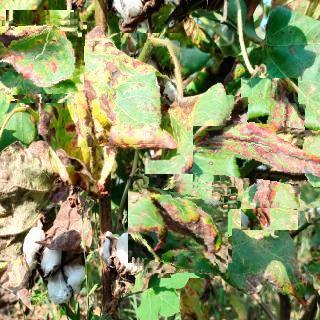blight: (65, 33, 181, 148), (213, 97, 320, 209), (133, 179, 228, 273), (0, 13, 83, 99)
